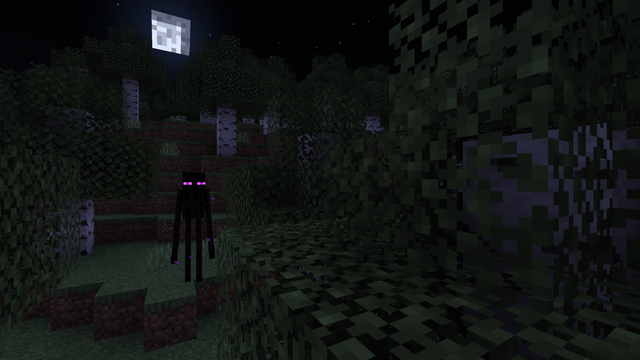endermens: (180, 168, 207, 285)
